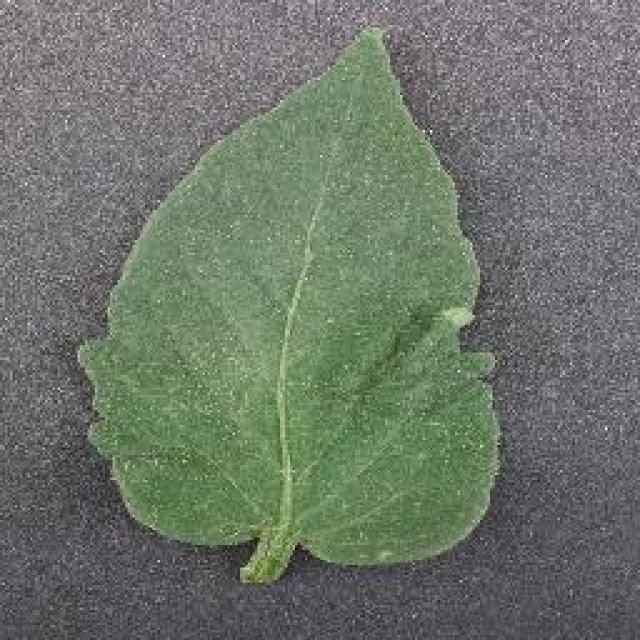healthy: (79, 24, 500, 581)
